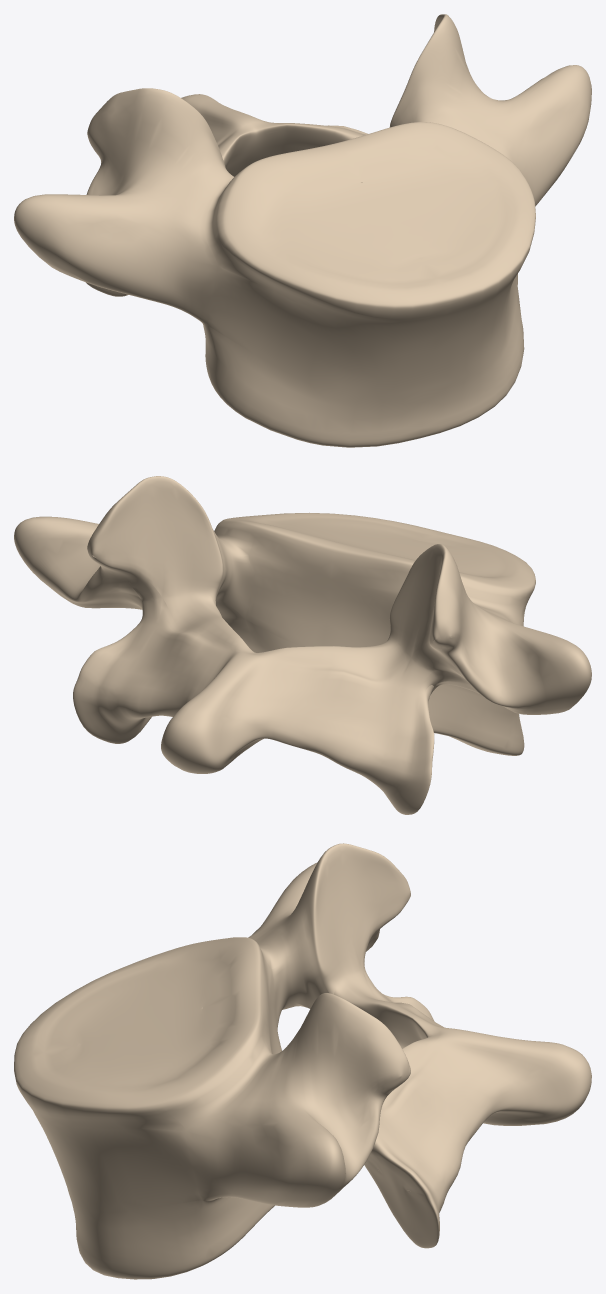
3 renders of one model, top to bottom at view 1: azimuth 30°, elevation 25°; view 2: azimuth 150°, elevation 25°; view 3: azimuth 270°, elevation 25°, orthographic. The views are drawn at different scales.
Visible parts, largest first — view 1: L5; view 2: L5; view 3: L5.
Boxes of the visible parts, <box> form: L5: <box>14,14,591,447</box>; L5: <box>14,476,591,814</box>; L5: <box>14,843,591,1279</box>.
Bounding box in the file's own units: 105 × 52.04 × 86.02.
